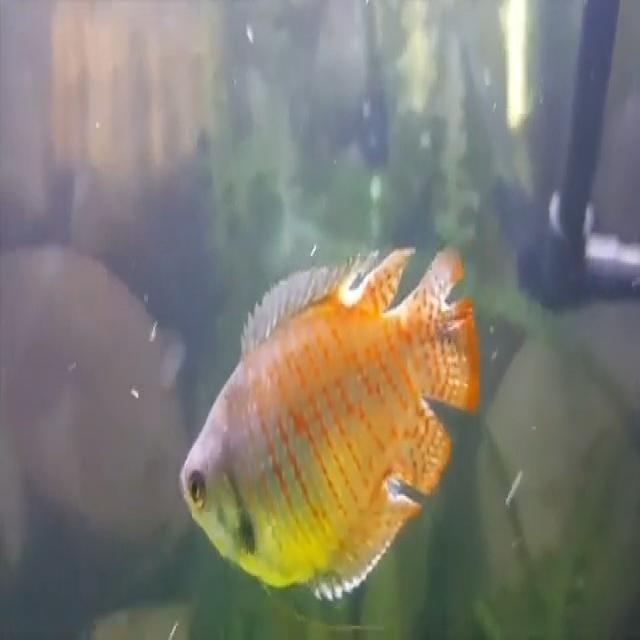fish: (177, 242, 483, 601)
